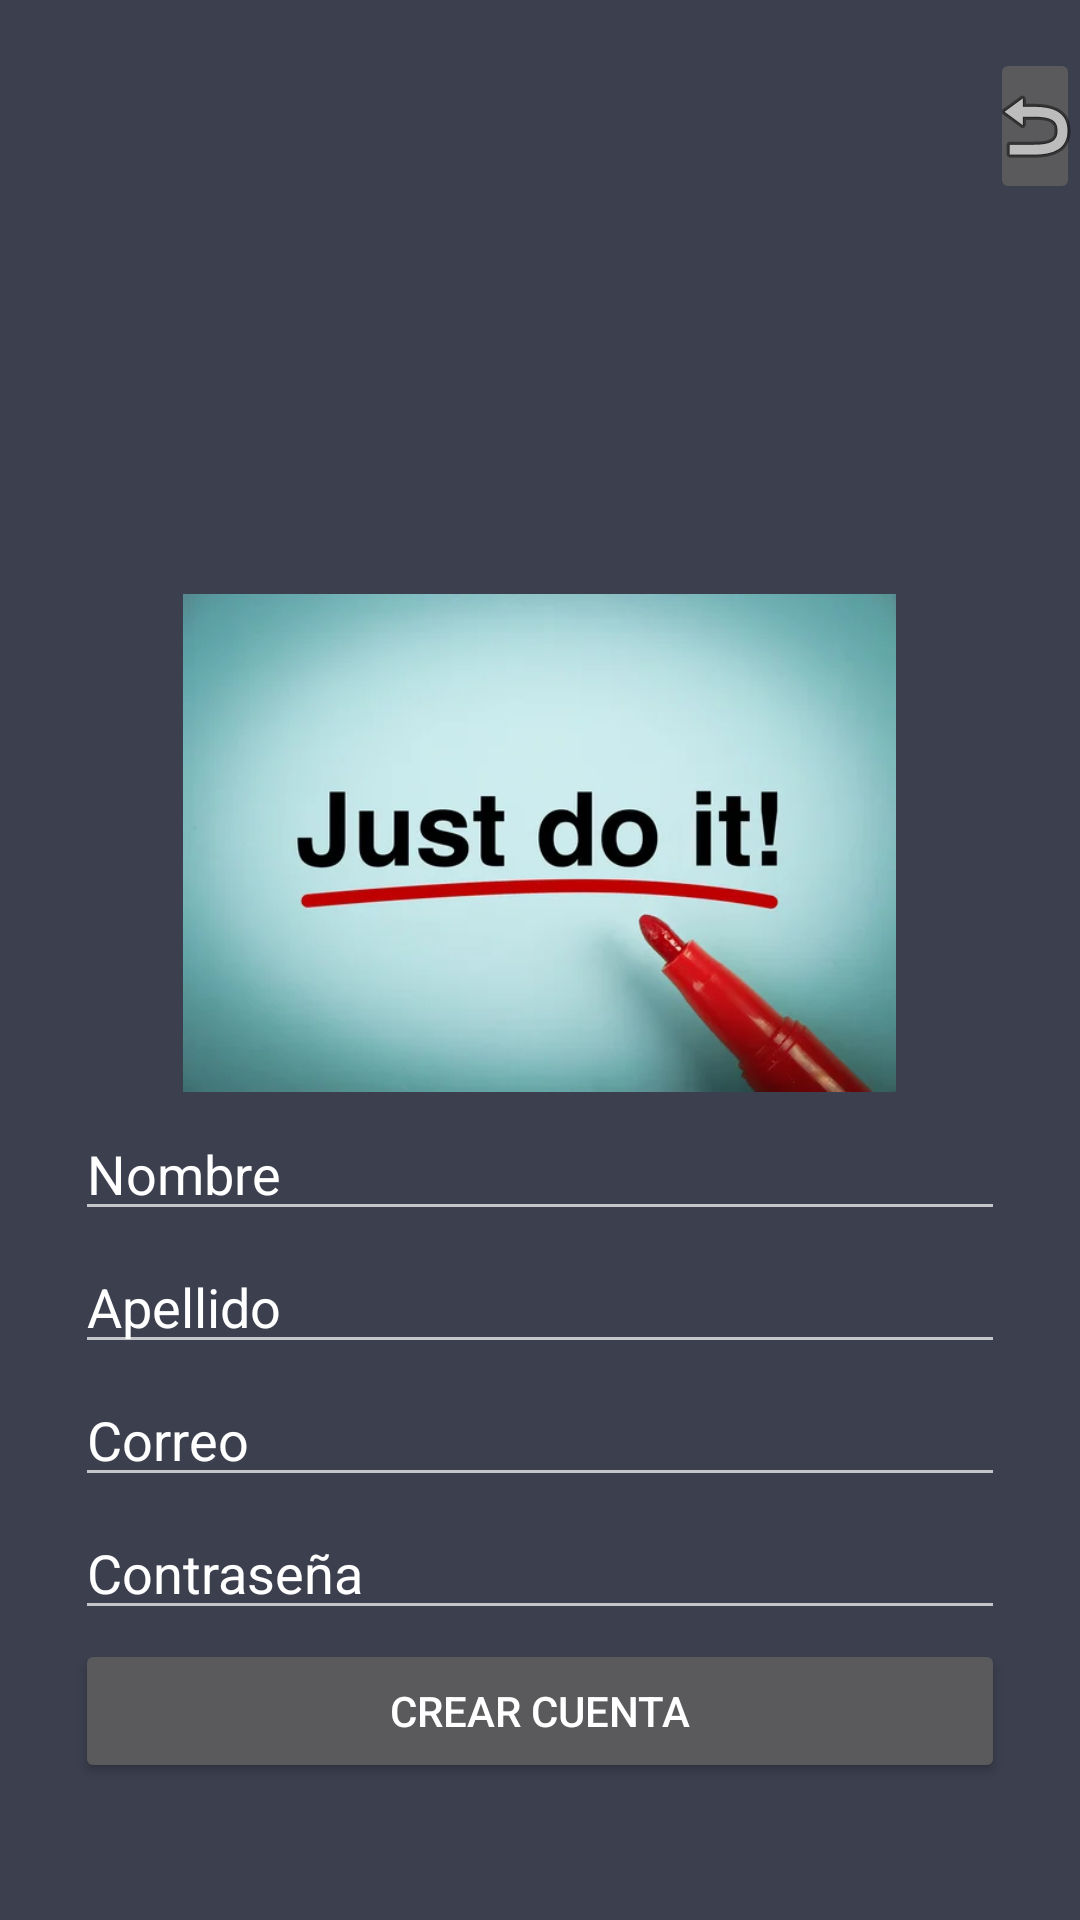

Icon bounding boxes for this 1080x1920 phone screenshot, format bbox=[x1, y1, x2, y2]:
revert: bbox=[1002, 66, 1070, 186]
